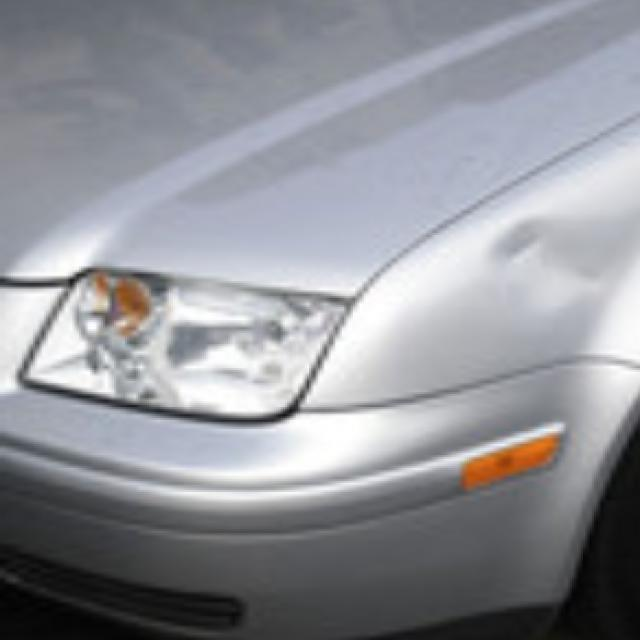dents: (478, 202, 634, 326)
